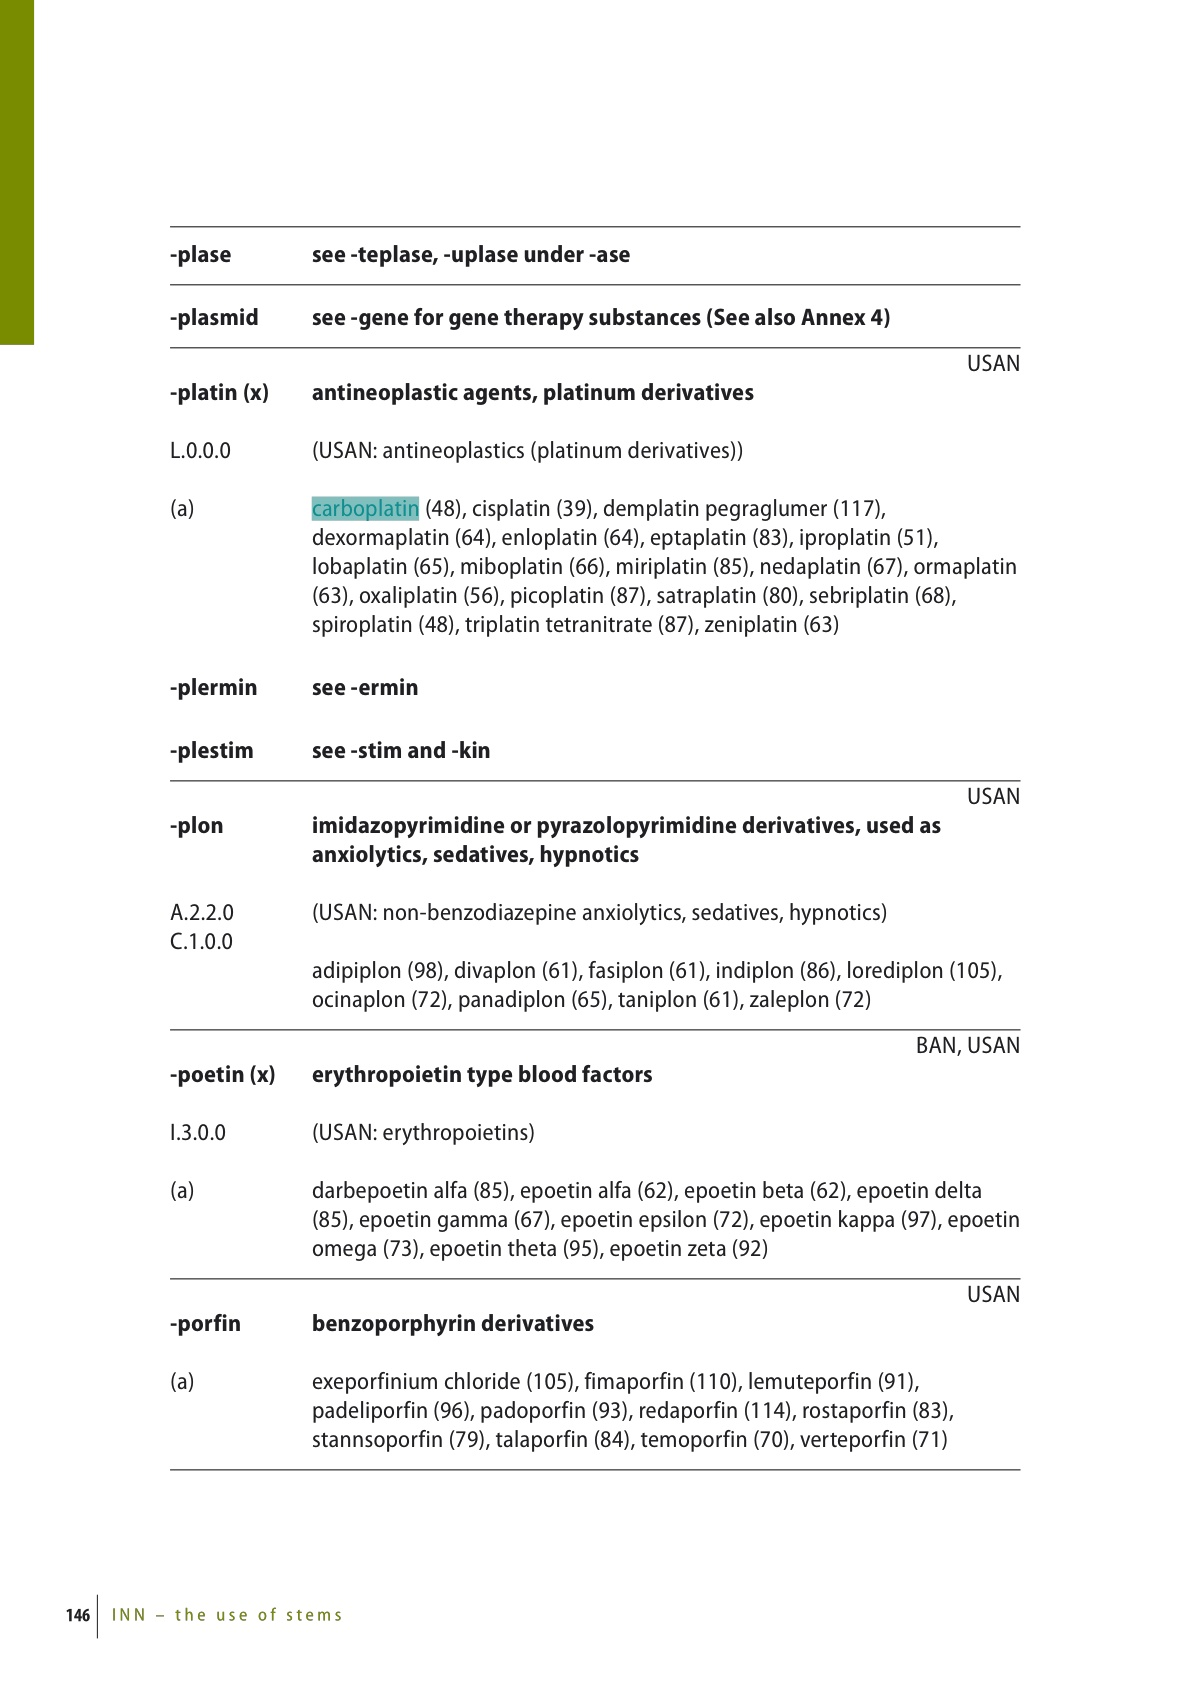partial_lined: (168, 225, 1022, 1473)
